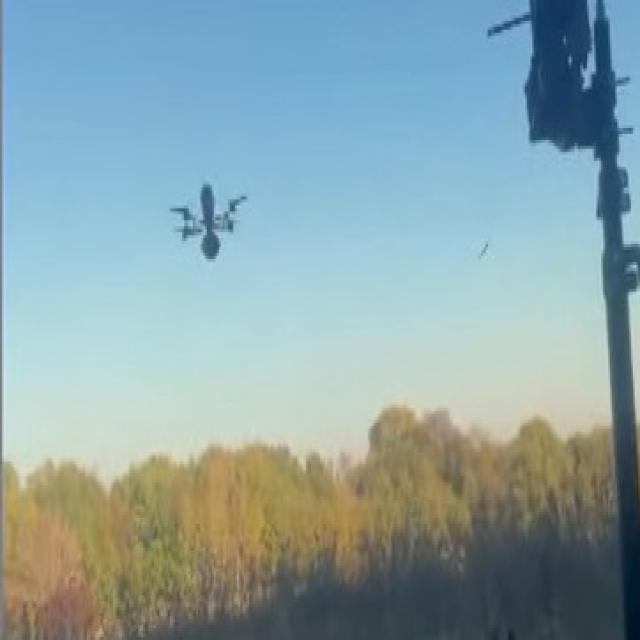drone: (166, 178, 251, 266)
